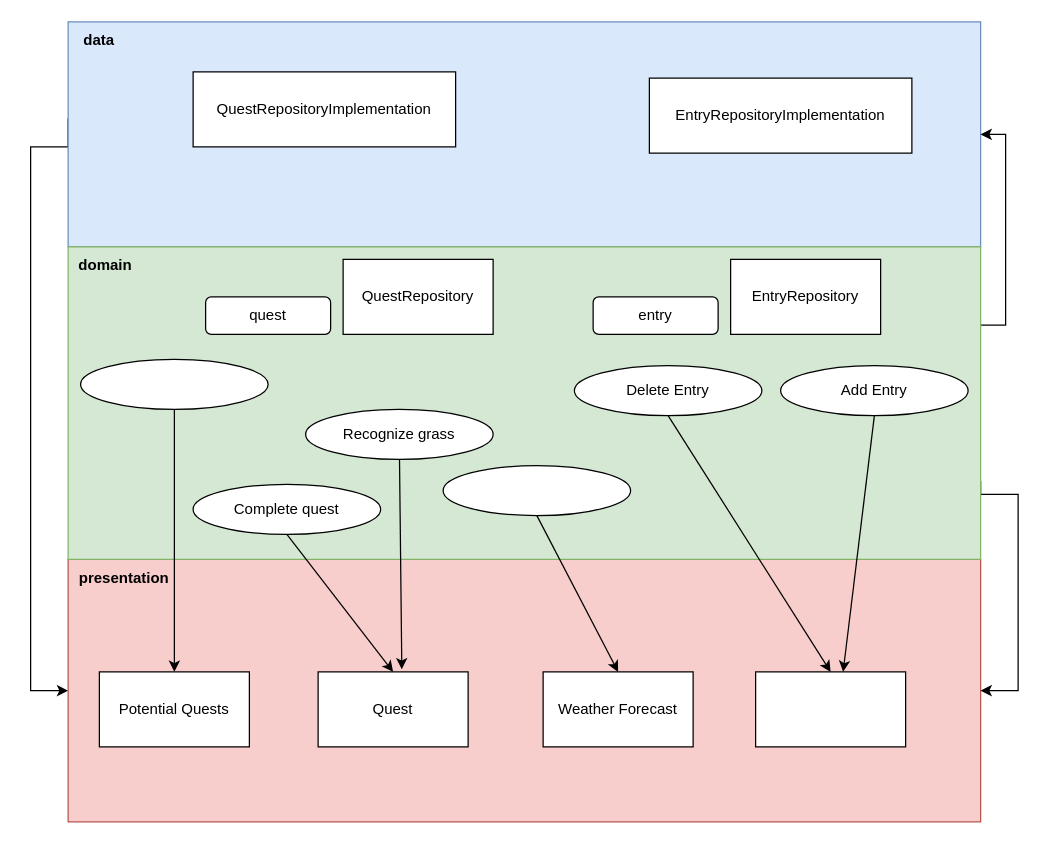
Some shapes in this 1050 by 844 pixel diagram are drawn without their labels. The centre of each missing label's shape, as x and y in pixels:
"Get forecast" goes at point 536,490.
"Get quest" goes at point 173,383.
"Journal" goes at point 830,709.
